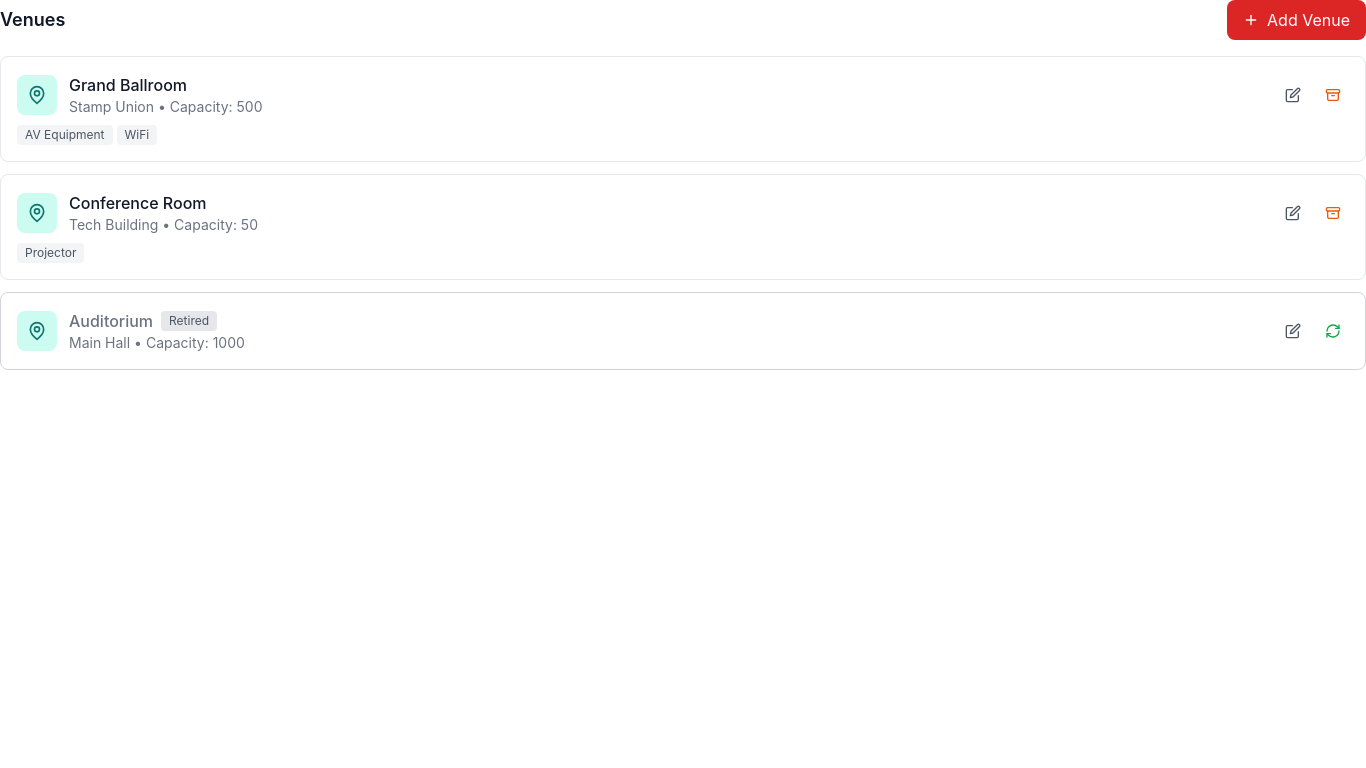
Scenario: CategoryVenueManager Component - Complete Coverage › Add Form - Venues › opens add venue form
What coordinates should you click on to do the following:
click the button "Add Venue"
I would click on:
 (1297, 20)
Its box is [1227, 0, 1365, 40].
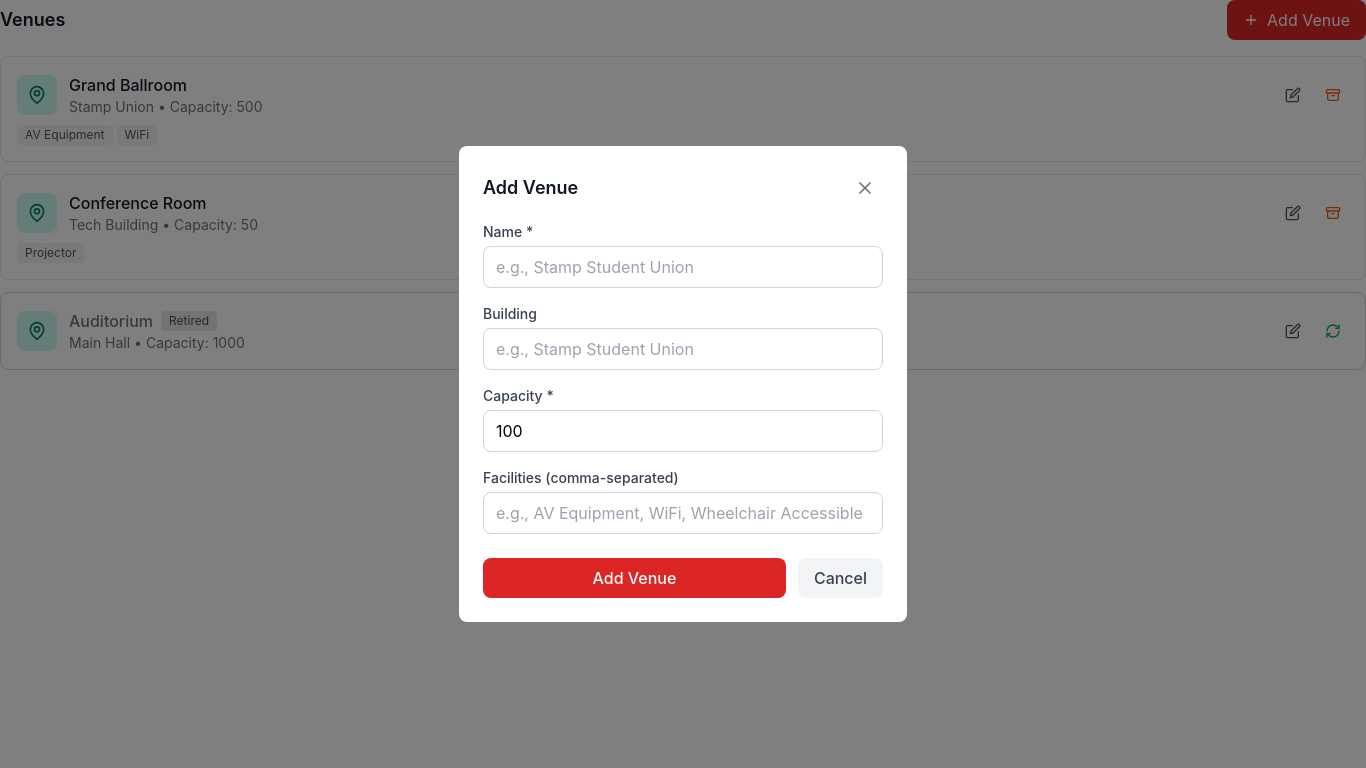
Expected: the heading "Add Venue" is shown, [483, 174, 578, 202]
